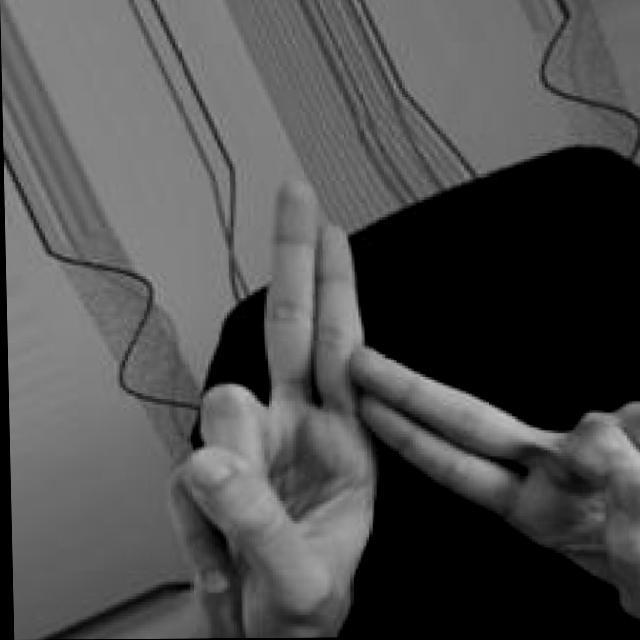K: (160, 168, 640, 639)
